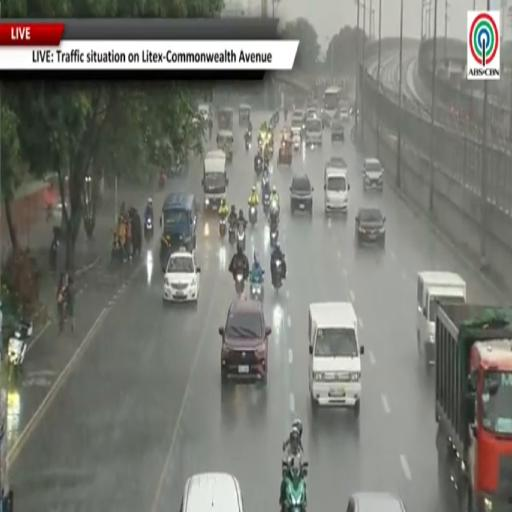bus: (322, 87, 341, 125)
car: (309, 302, 364, 417), (219, 298, 271, 383), (180, 473, 243, 511), (163, 248, 200, 301), (355, 207, 385, 247), (347, 492, 406, 511), (290, 174, 314, 215), (363, 158, 383, 190), (291, 109, 305, 129), (331, 120, 344, 141), (326, 157, 347, 169), (337, 105, 350, 123), (306, 106, 318, 117)
motorcycle: (8, 322, 32, 375), (284, 462, 308, 511), (57, 292, 67, 332), (273, 259, 282, 291), (144, 217, 154, 242), (251, 282, 263, 301), (237, 224, 245, 251), (235, 274, 244, 296), (248, 205, 257, 226), (254, 155, 263, 174), (270, 226, 278, 247), (229, 223, 236, 245), (219, 217, 226, 237), (262, 194, 269, 214), (159, 172, 166, 189), (245, 137, 250, 151), (247, 128, 252, 140)
truck: (435, 301, 511, 511), (202, 150, 228, 211)
